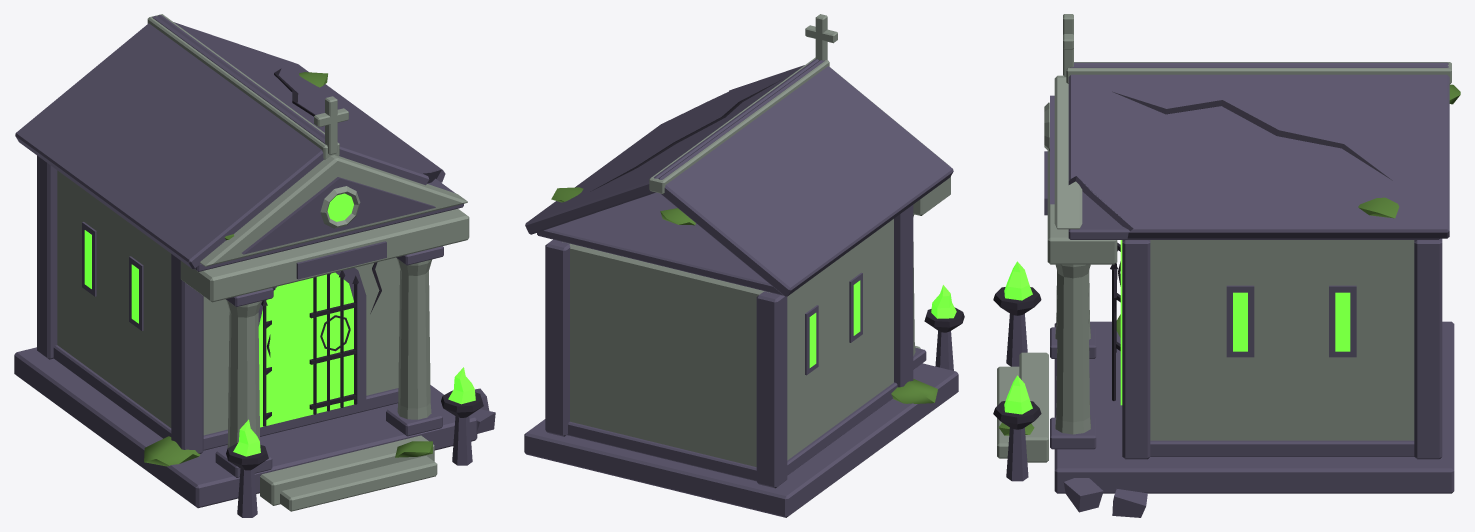
The model's file is mausoleum.glb.
3 views of the same model, side by side, from view 1: azimuth 30°, elevation 25°; view 2: azimuth 150°, elevation 25°; view 3: azimuth 270°, elevation 25° (orthographic). The views are drawn at different scales.
Visible parts, largest first — view 1: mausoleum; view 2: mausoleum; view 3: mausoleum.
Part boxes in pixels (x1,y1,x2,y2): mausoleum: (14,14,495,517); mausoleum: (524,14,964,517); mausoleum: (993,14,1460,517).
Size of the model in its own units: 4.57 by 4.84 by 5.03.
